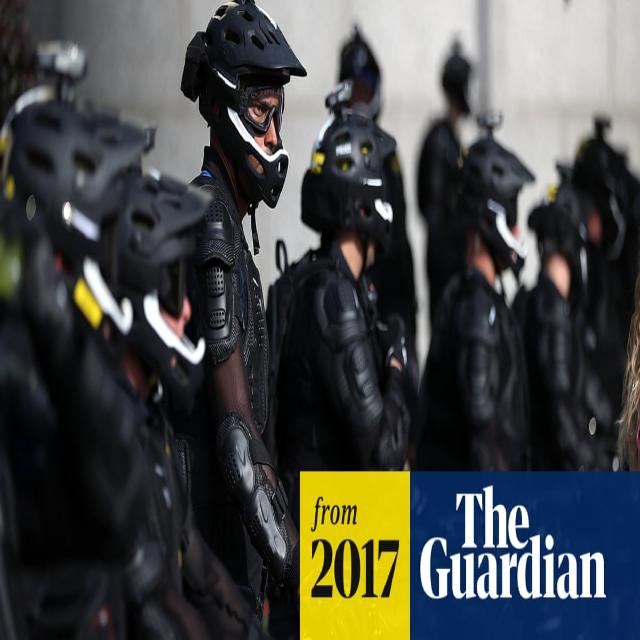police: (176, 0, 305, 640), (277, 55, 419, 486), (418, 103, 538, 467)
